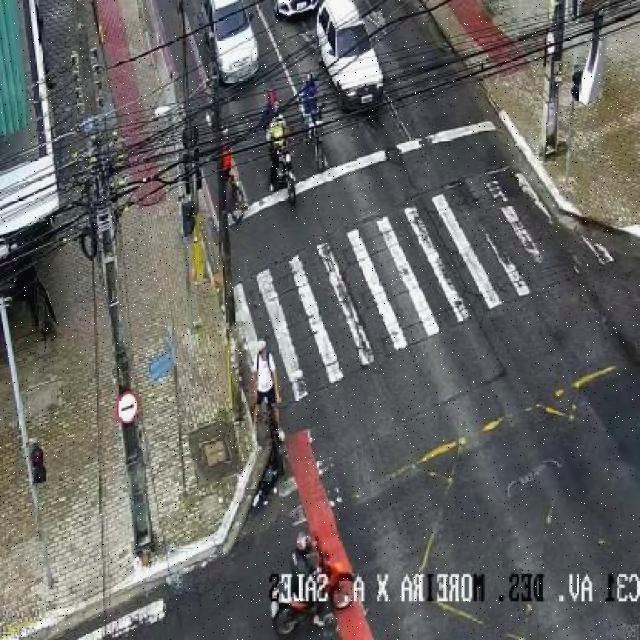Car: (317, 0, 387, 111), (202, 0, 260, 88)
Cycle: (268, 545, 362, 640), (266, 140, 303, 206), (303, 101, 335, 171), (222, 166, 248, 226)
